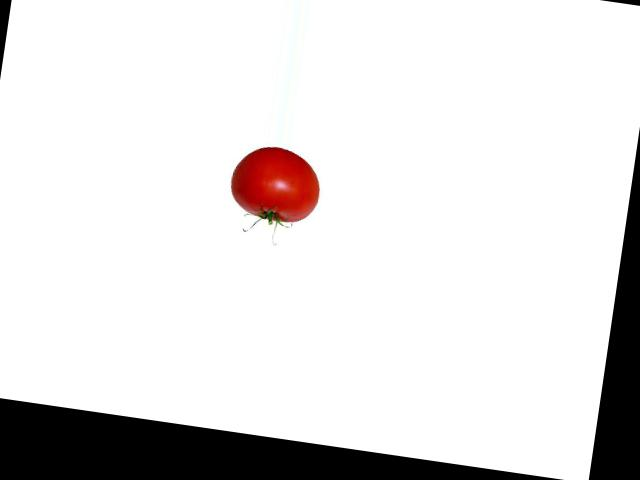tomato: (227, 142, 324, 226)
